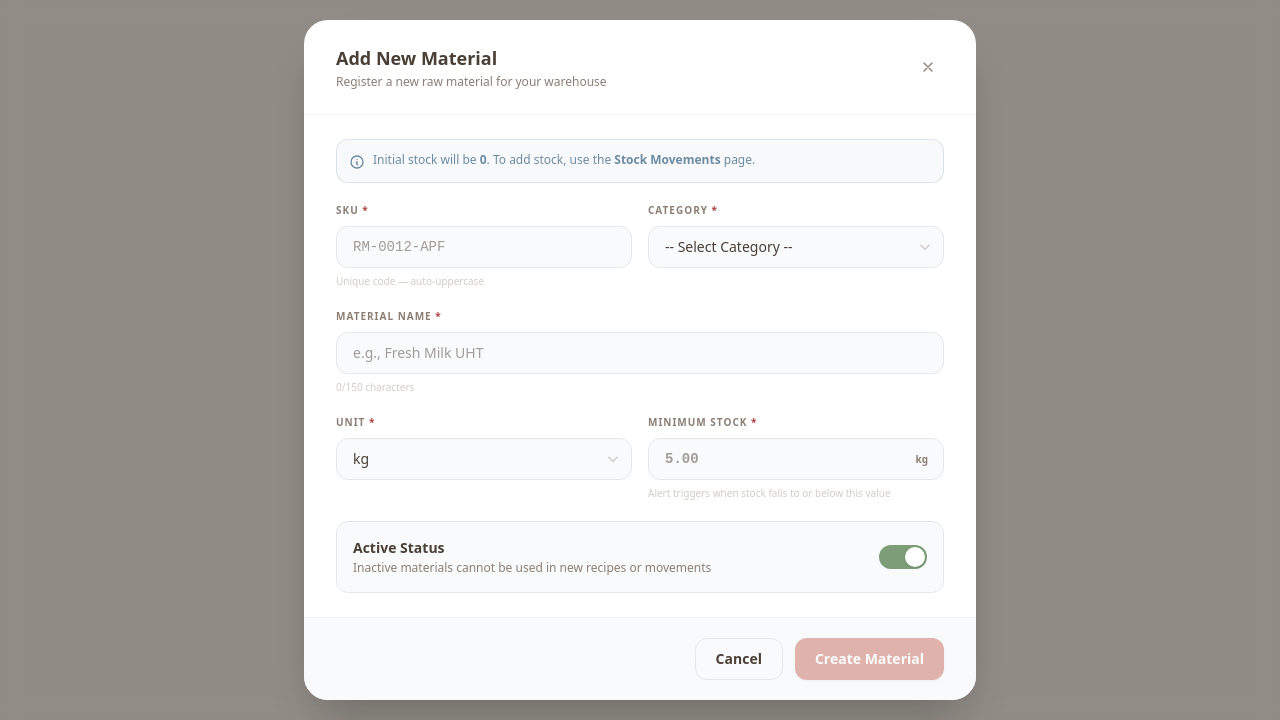
Test: MaterialFormModal.vue (Component Testing) › Validation — Computed isValid › [Happy Path] submit enabled saat semua field valid
Type "RM-001" into the field with placeholder "RM-0012-APF" at (484, 247), box 336,226 -> 632,268
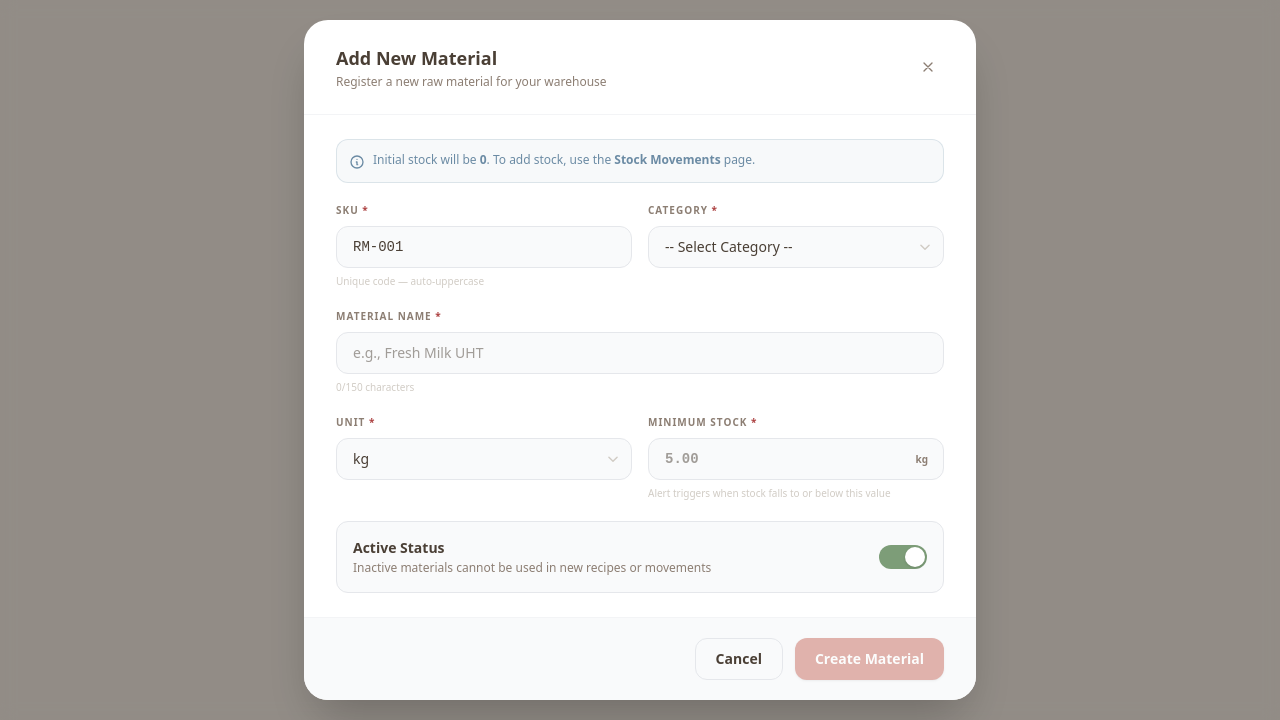
Type "Milk" into the field with placeholder "e.g., Fresh Milk UHT" at (640, 353), box 336,332 -> 944,374
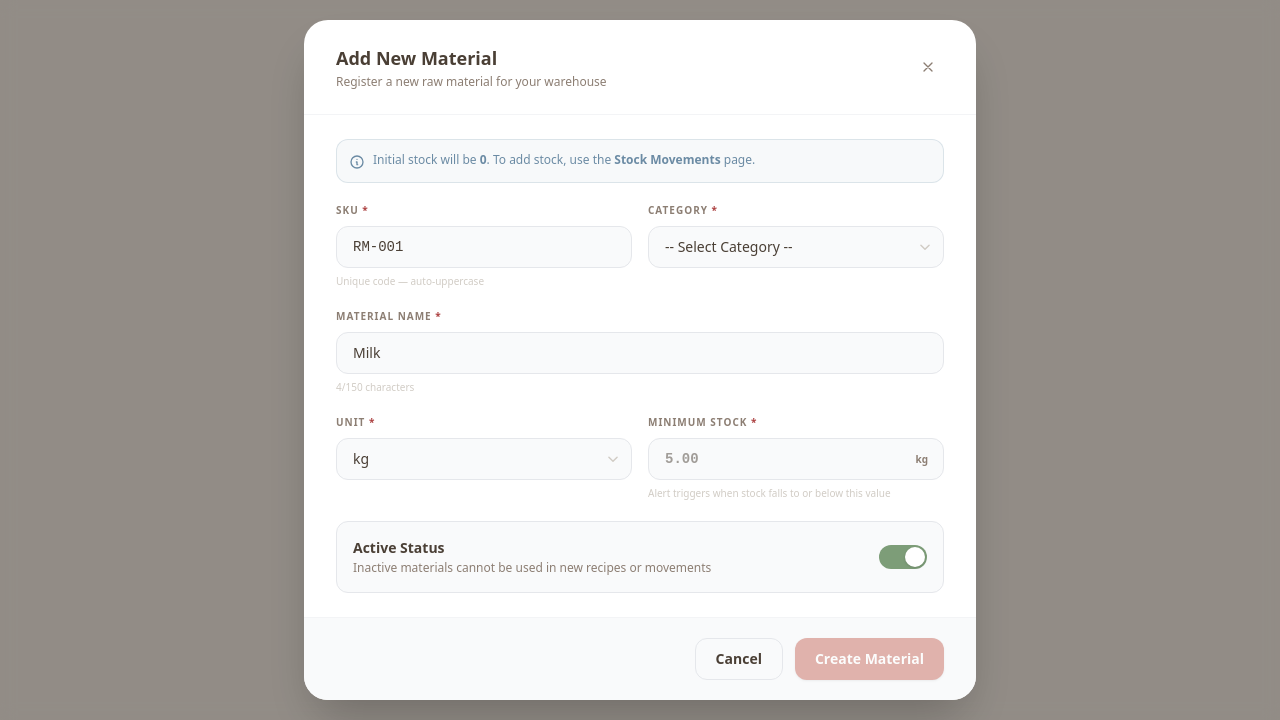
Type "5" into the number field with placeholder "5.00" at (796, 459), box 648,438 -> 944,480
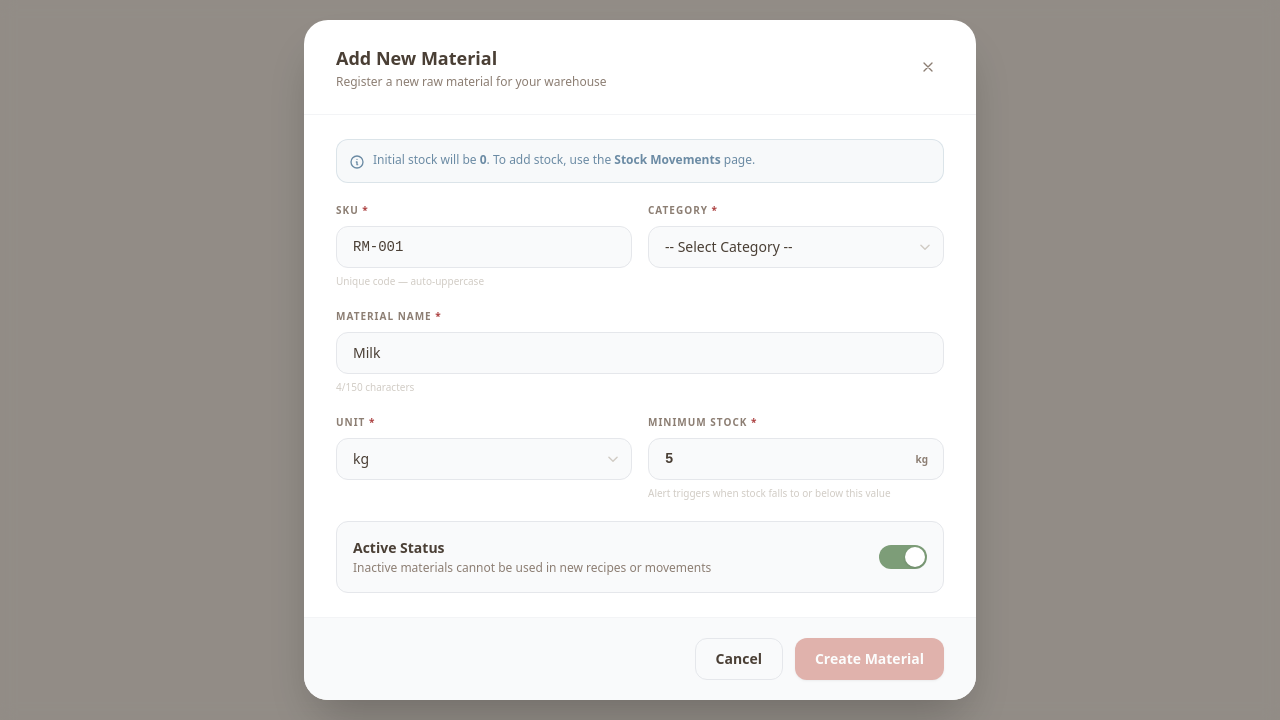
Select "Coffee" in the dropdown below "Category" at (796, 247), box 648,226 -> 944,268
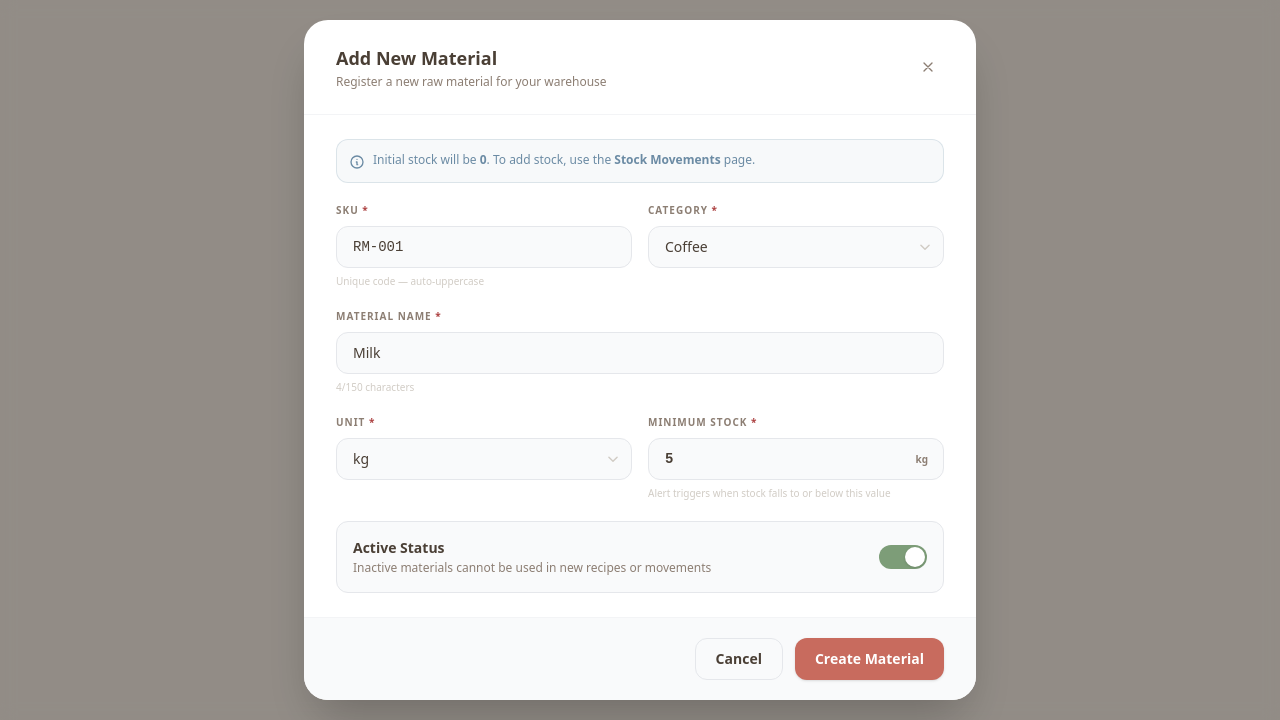
Now the button "Create Material" is enabled, box 795,638 -> 944,680
